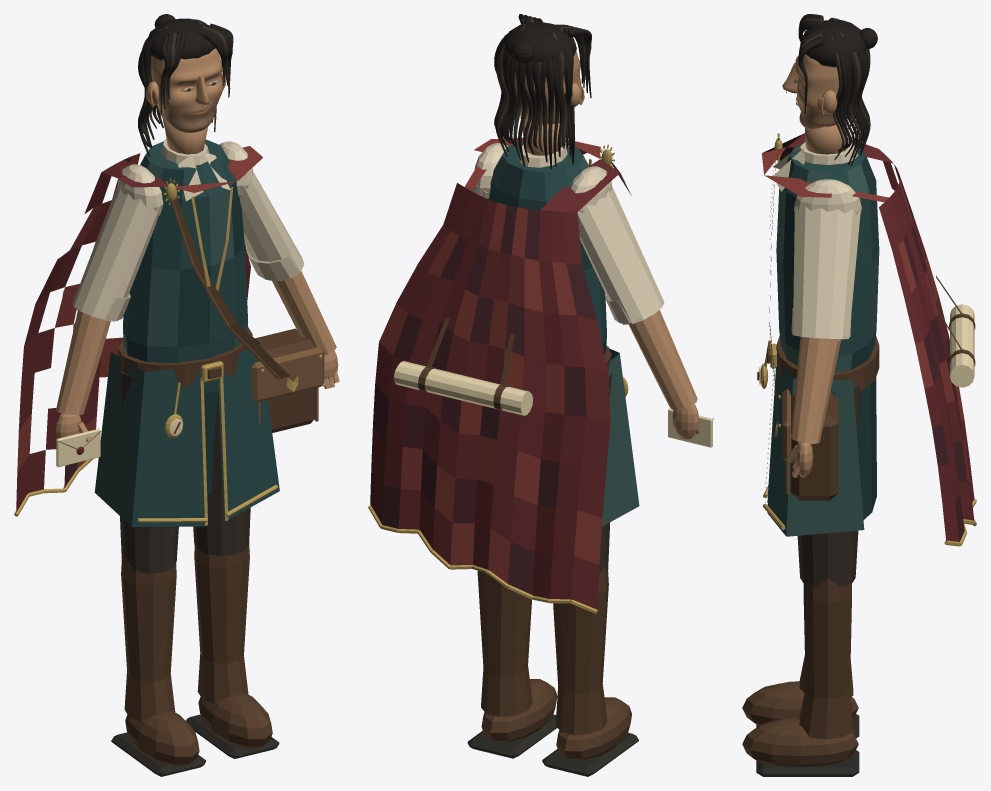
File: human-courier.glb
3 views of the same model, side by side, from view 1: azimuth 30°, elevation 25°; view 2: azimuth 150°, elevation 25°; view 3: azimuth 270°, elevation 25° (orthographic). The views are drawn at different scales.
Visible parts, largest first — view 1: Waistcoat, Split_coat_R, Cloak_folds, Boot_shaft_R, Boot_shaft_L, Split_coat_L, Linen_sleeve_R, Face, Forearm_R, Linen_sleeve_L, Trouser_thigh_L, Boot_toe_L (+17 smaller); view 2: Cloak_folds, Boot_shaft_R, Boot_shaft_L, Linen_sleeve_R, Waistcoat, Split_coat_R, Map_roll, Forearm_R, Boot_toe_R, Boot_toe_L, Hair_crown, Boot_sole_R (+8 smaller); view 3: Cloak_folds, Waistcoat, Linen_sleeve_L, Boot_shaft_L, Split_coat_L, Boot_toe_L, Forearm_L, Trouser_thigh_L, Messenger_satchel, Back_coat, Face, Boot_toe_R (+12 smaller).
Boxes of the visible parts, x1,y1,x2,y2 form: Waistcoat: (123,139,247,393); Split_coat_R: (94,352,205,527); Cloak_folds: (16,146,262,512); Boot_shaft_R: (121,556,176,721); Boot_shaft_L: (194,542,249,703); Split_coat_L: (218,337,279,521); Linen_sleeve_R: (72,185,160,321); Face: (151,48,222,132); Forearm_R: (56,310,110,415); Linen_sleeve_L: (239,171,304,281); Trouser_thigh_L: (193,392,250,555); Boot_toe_L: (198,693,272,749); Cloak_folds: (370,137,631,609); Boot_shaft_R: (553,566,608,735); Boot_shaft_L: (477,570,532,716); Linen_sleeve_R: (577,185,664,324); Waistcoat: (488,141,606,354); Split_coat_R: (602,348,639,526); Map_roll: (393,361,533,415); Forearm_R: (628,310,697,410); Boot_toe_R: (556,697,631,760); Boot_toe_L: (481,679,557,742); Hair_crown: (504,22,576,62); Boot_sole_R: (542,732,638,776); Cloak_folds: (762,133,974,541); Waistcoat: (776,141,879,372); Linen_sleeve_L: (793,206,860,339); Boot_shaft_L: (799,578,853,739); Split_coat_L: (767,353,864,536); Boot_toe_L: (742,717,858,767); Forearm_L: (791,337,840,443); Trouser_thigh_L: (797,385,861,587); Messenger_satchel: (790,392,838,500); Back_coat: (856,377,876,519); Face: (795,54,846,129); Boot_toe_R: (742,681,858,725).
Size of the model in its own units: 0.7395 by 1.75 by 0.5149.
